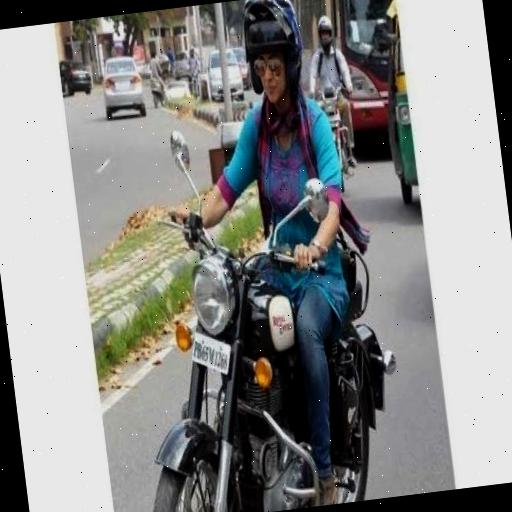helmet: (214, 0, 380, 511), (301, 8, 363, 174)
